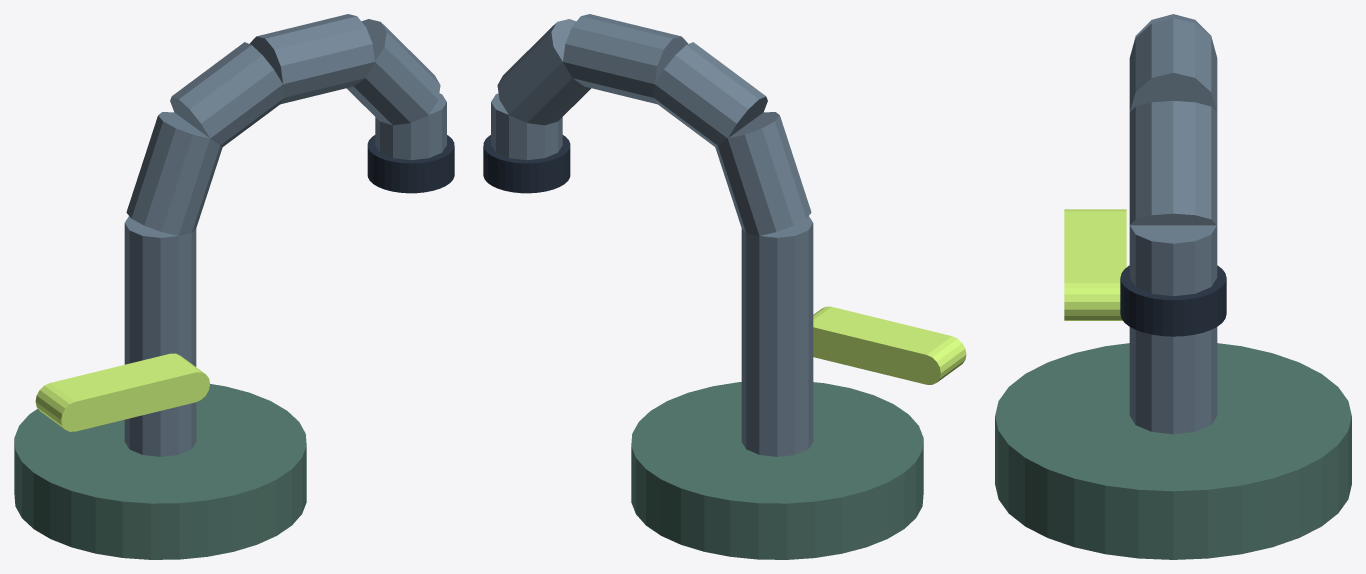
Rendered from faucet.glb.
The picture shows the model from 3 angles, left to right: view 1: azimuth 30°, elevation 25°; view 2: azimuth 150°, elevation 25°; view 3: azimuth 270°, elevation 25°; orthographic projection. The views are drawn at different scales.
Parts seen in each view (by area): view 1: base, pipe0, lever, pipe1, pipe3, pipe2, pipe4, outlet, pipe5; view 2: base, pipe0, lever, pipe1, pipe3, pipe2, pipe4, outlet, pipe5; view 3: base, pipe4, pipe0, pipe3, lever, pipe5, outlet.
Part boxes in pixels (<box>): base: <box>14,384,306,559</box>; pipe0: <box>124,216,196,456</box>; lever: <box>35,353,209,431</box>; pipe1: <box>126,112,222,235</box>; pipe3: <box>249,14,374,104</box>; pipe2: <box>170,42,284,146</box>; pipe4: <box>347,19,440,125</box>; outlet: <box>367,135,454,193</box>; pipe5: <box>375,93,446,160</box>; base: <box>631,382,923,559</box>; pipe0: <box>741,216,813,456</box>; lever: <box>813,306,966,384</box>; pipe1: <box>715,112,811,235</box>; pipe3: <box>563,14,688,104</box>; pipe2: <box>653,42,767,146</box>; pipe4: <box>497,19,590,125</box>; outlet: <box>483,135,570,193</box>; pipe5: <box>491,93,562,160</box>; base: <box>995,343,1351,559</box>; pipe4: <box>1129,100,1217,225</box>; pipe0: <box>1129,327,1217,434</box>; pipe3: <box>1129,18,1217,111</box>; lever: <box>1064,209,1126,320</box>; pipe5: <box>1129,225,1217,296</box>; outlet: <box>1120,265,1226,336</box>.
Size of the model in its own units: 1.36 by 1.31 by 0.8.
